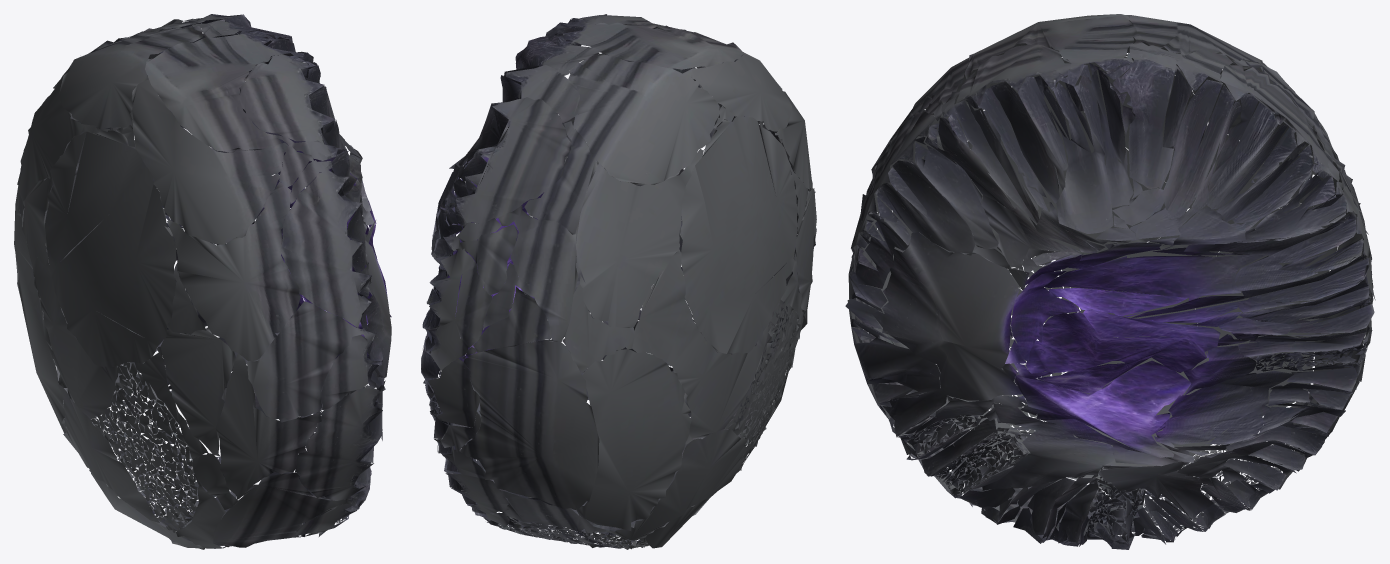
The model's file is drop_meteor_core.glb.
The picture shows the model from 3 angles, left to right: view 1: azimuth 30°, elevation 25°; view 2: azimuth 150°, elevation 25°; view 3: azimuth 270°, elevation 25°; orthographic projection.
Visible parts, largest first — view 1: node_0; view 2: node_0; view 3: node_0.
Part boxes in pixels (<box>): node_0: <box>14,14,391,549</box>; node_0: <box>421,14,816,549</box>; node_0: <box>845,14,1375,549</box>.
Bounding box in the file's own units: 0.6857 × 1.18 × 1.18.
Materials: 1 (1 with a texture image).
